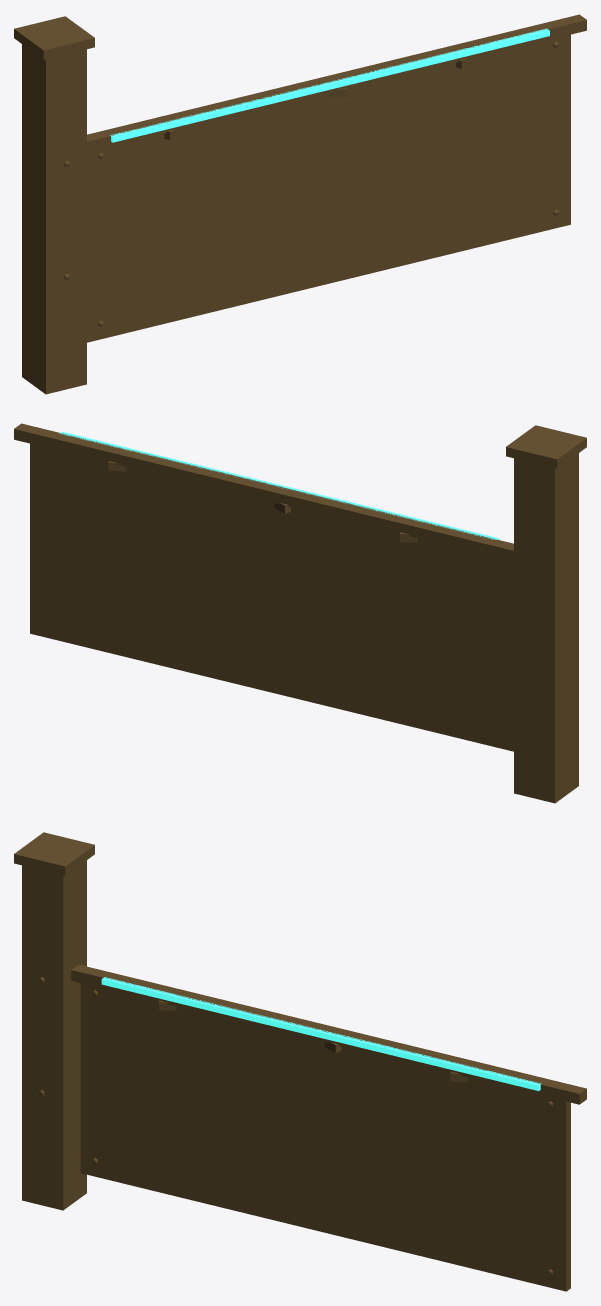
Rendered from SM_Fence_DvergrBrass_08_Straight.glb.
The picture shows the model from 3 angles, top to bottom: view 1: azimuth 30°, elevation 25°; view 2: azimuth 150°, elevation 25°; view 3: azimuth 330°, elevation 25°; orthographic projection.
Visible parts, largest first — view 1: SM_Fence_DvergrBrass_08_Straight_Panel, SM_Fence_DvergrBrass_08_Straight_Post, SM_Fence_DvergrBrass_08_Straight_RailTop, SM_Fence_DvergrBrass_08_Straight_GlowStrip, SM_Fence_DvergrBrass_08_Straight_Post_Cap; view 2: SM_Fence_DvergrBrass_08_Straight_Panel, SM_Fence_DvergrBrass_08_Straight_Post, SM_Fence_DvergrBrass_08_Straight_RailTop, SM_Fence_DvergrBrass_08_Straight_Post_Cap, SM_Fence_DvergrBrass_08_Straight_GlowStrip; view 3: SM_Fence_DvergrBrass_08_Straight_Panel, SM_Fence_DvergrBrass_08_Straight_Post, SM_Fence_DvergrBrass_08_Straight_RailTop, SM_Fence_DvergrBrass_08_Straight_GlowStrip, SM_Fence_DvergrBrass_08_Straight_Post_Cap.
Boxes of the visible parts, x1,y1,x2,y2 form: SM_Fence_DvergrBrass_08_Straight_Panel: (87,34,570,342); SM_Fence_DvergrBrass_08_Straight_Post: (22,44,86,394); SM_Fence_DvergrBrass_08_Straight_RailTop: (87,14,586,152); SM_Fence_DvergrBrass_08_Straight_GlowStrip: (110,28,549,142); SM_Fence_DvergrBrass_08_Straight_Post_Cap: (14,16,94,59); SM_Fence_DvergrBrass_08_Straight_Panel: (30,443,513,751); SM_Fence_DvergrBrass_08_Straight_Post: (514,453,578,803); SM_Fence_DvergrBrass_08_Straight_RailTop: (14,423,513,561); SM_Fence_DvergrBrass_08_Straight_Post_Cap: (506,425,586,468); SM_Fence_DvergrBrass_08_Straight_GlowStrip: (59,431,499,539); SM_Fence_DvergrBrass_08_Straight_Panel: (80,983,570,1291); SM_Fence_DvergrBrass_08_Straight_Post: (22,860,86,1210); SM_Fence_DvergrBrass_08_Straight_RailTop: (71,964,586,1104); SM_Fence_DvergrBrass_08_Straight_GlowStrip: (101,977,541,1090); SM_Fence_DvergrBrass_08_Straight_Post_Cap: (14,832,94,875).
Bounding box in the file's own units: 2.16 × 1.29 × 0.2.
